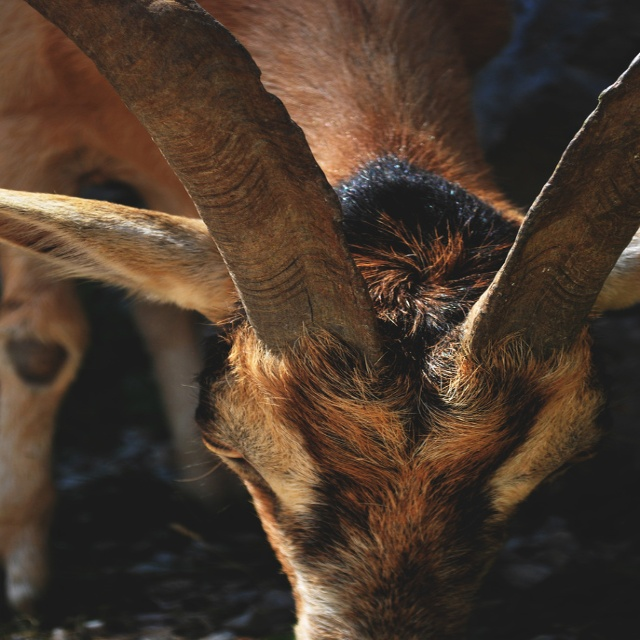Goat: (0, 2, 611, 640)
